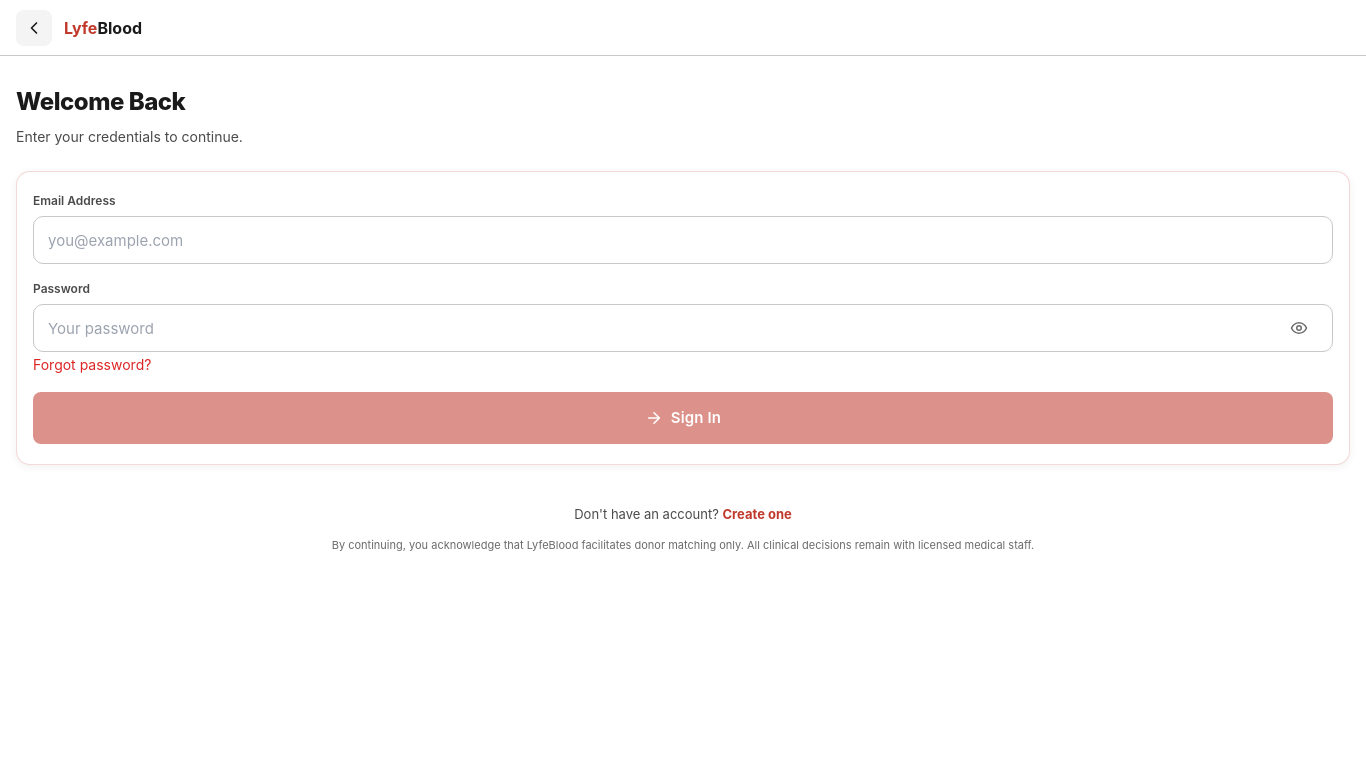
LoginPage interactions › enables native submission only after both credentials are entered
Expected: the button "Sign In" is disabled, [33,392,1333,444]
Step 1. Type "donor@example.com" into the field with placeholder "you@example.com" → [683, 240], box [33,216,1333,264]
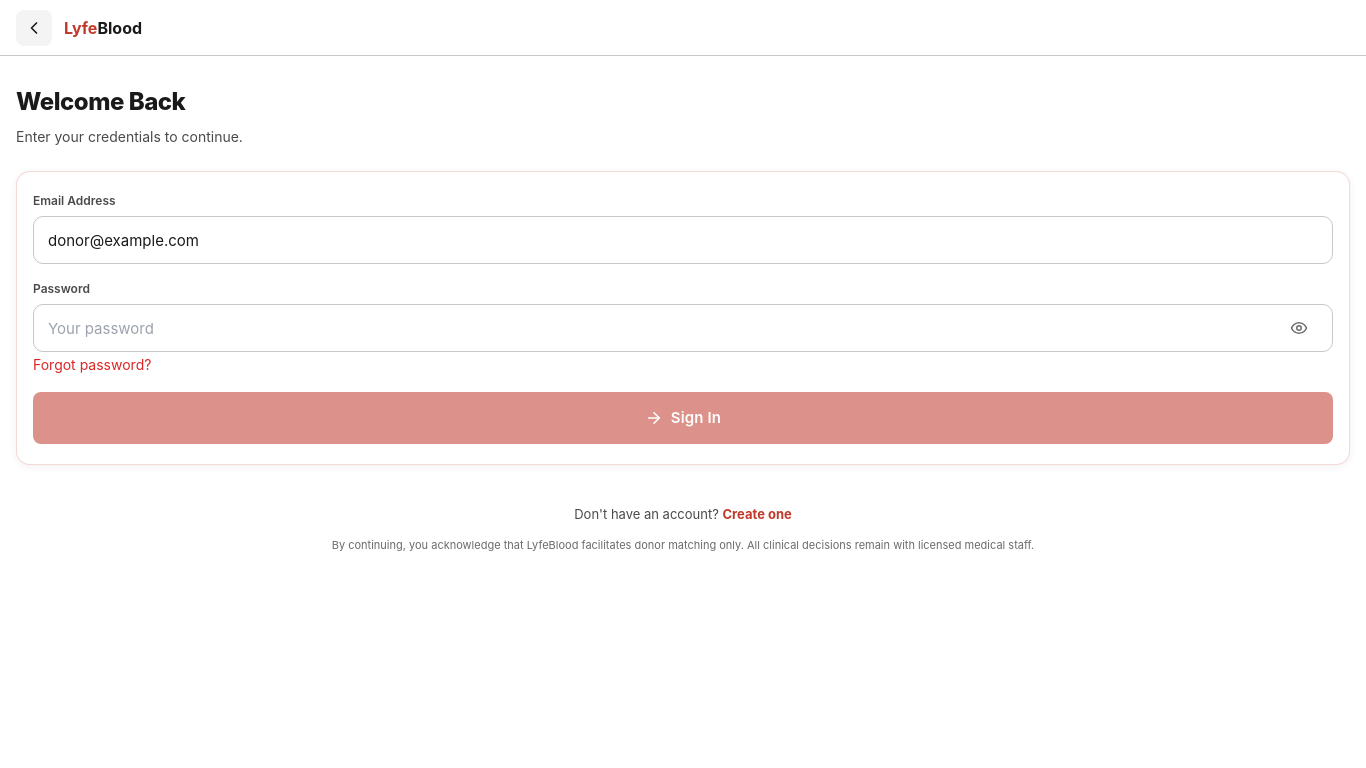
Expected: the button "Sign In" is disabled, [33,392,1333,444]
Step 2. Type "secret" into the password field with placeholder "Your password" → [683, 328], box [33,304,1333,352]
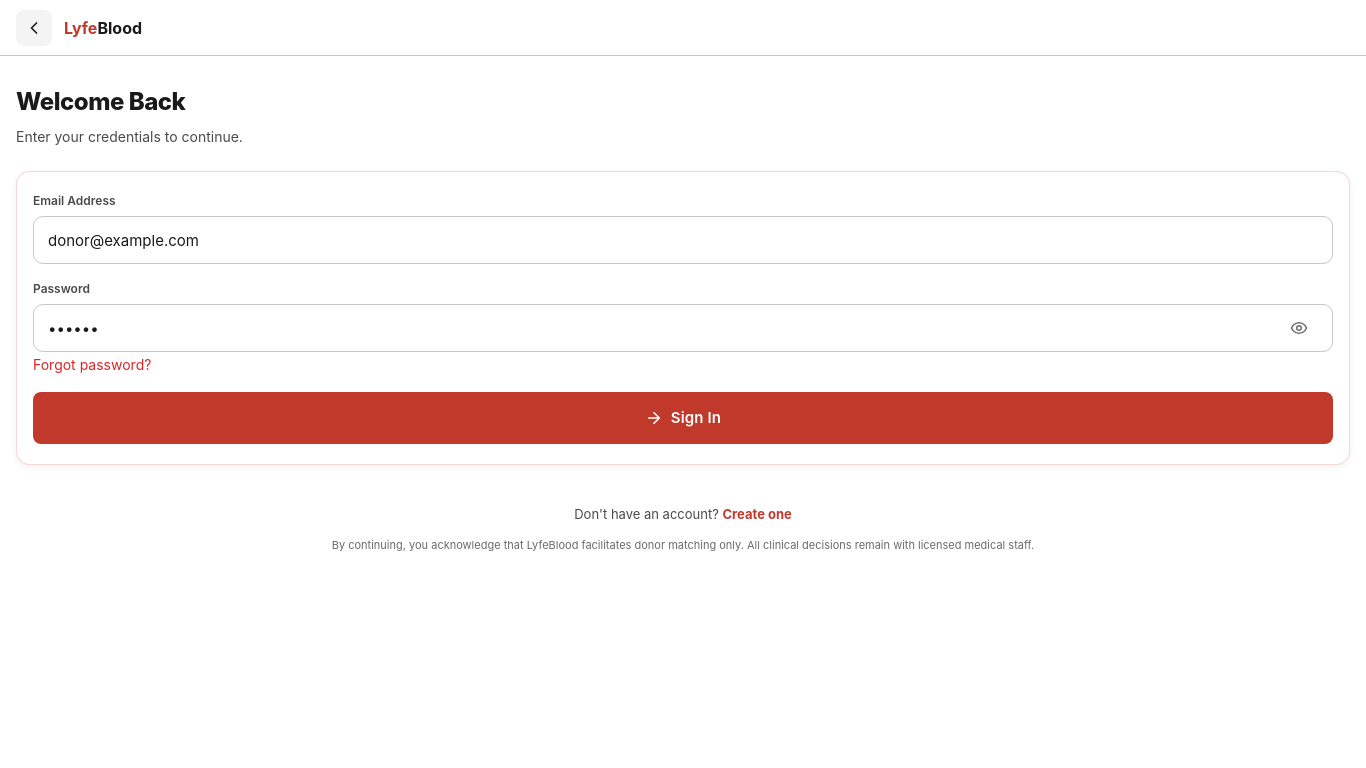
Expected: the button "Sign In" is enabled, [33,392,1333,444]
Step 3. Submit the form "Email Address Password Forgot password? Sign In", box [16,171,1350,465]
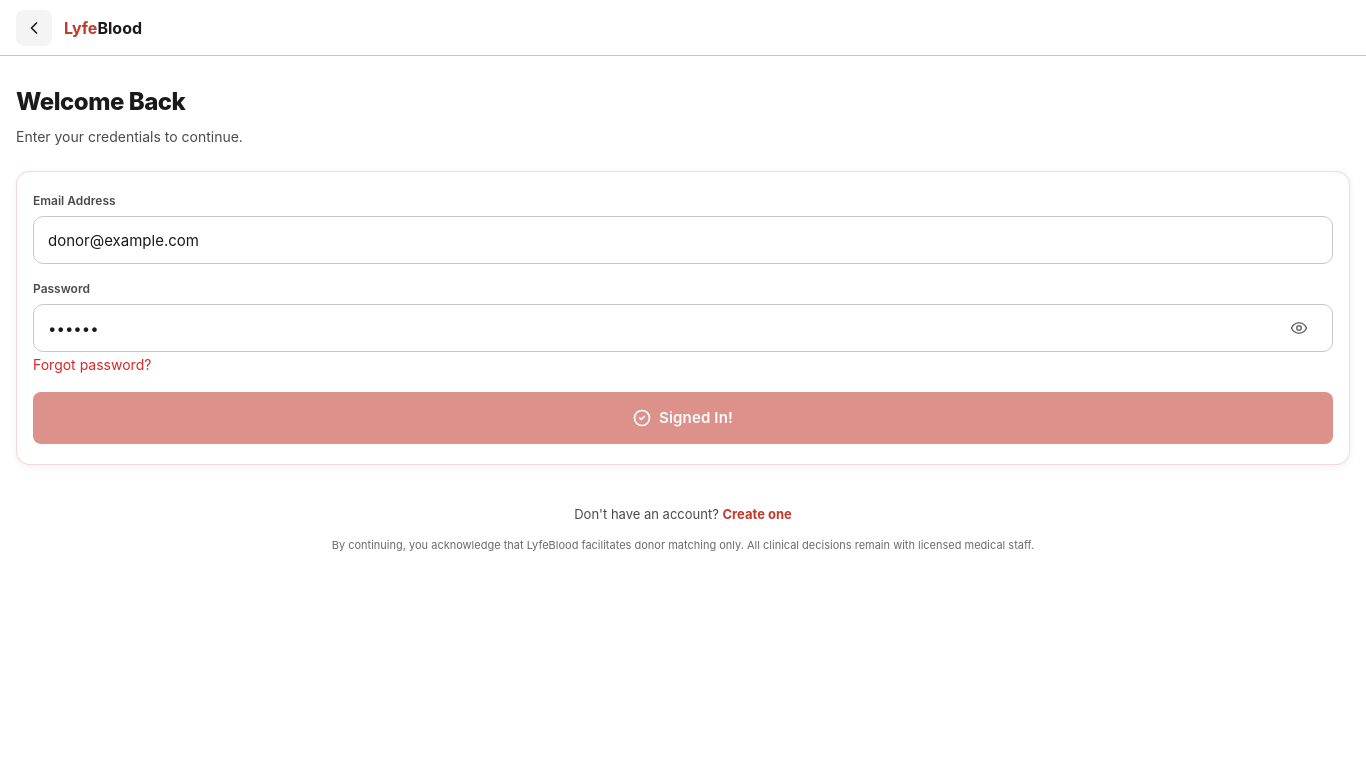
Expected: the button named "sign in" is disabled, [33,392,1333,444]
